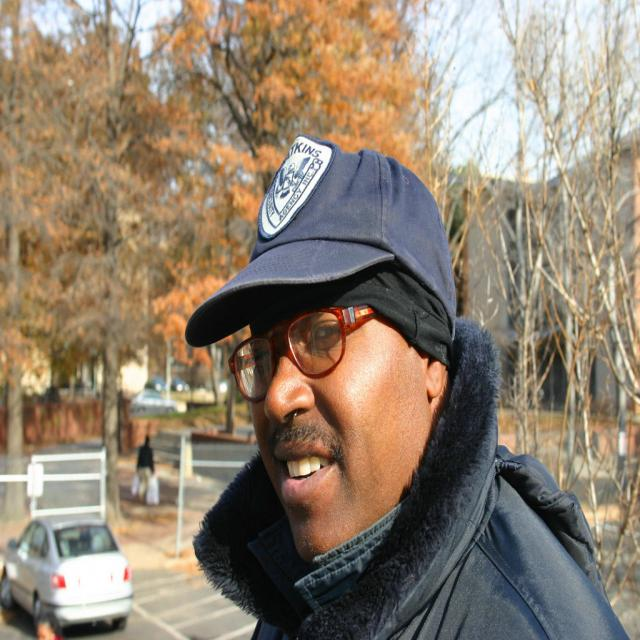other: (0, 512, 135, 630)
